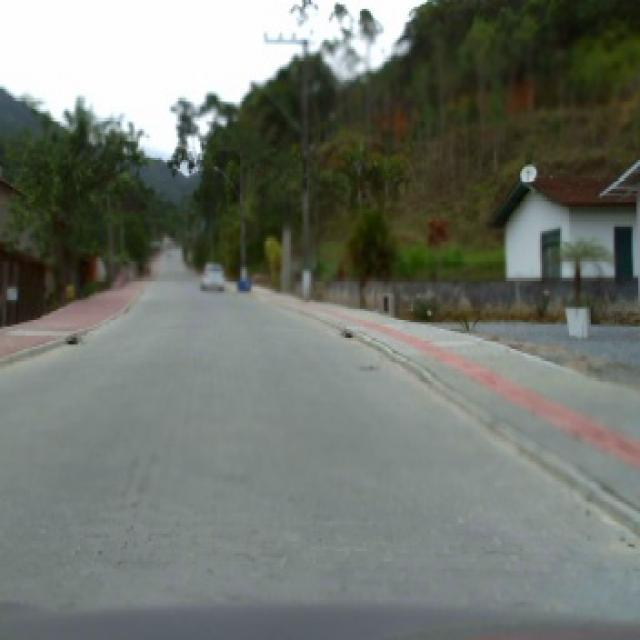Poth-hole: (340, 327, 353, 338), (64, 334, 78, 344)
